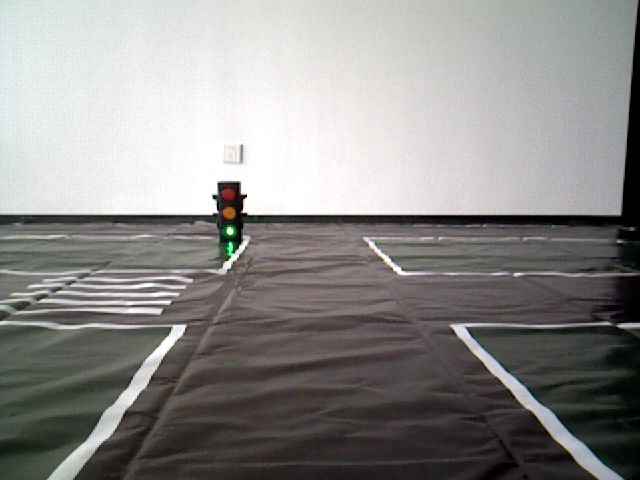green: (218, 183, 244, 237)
